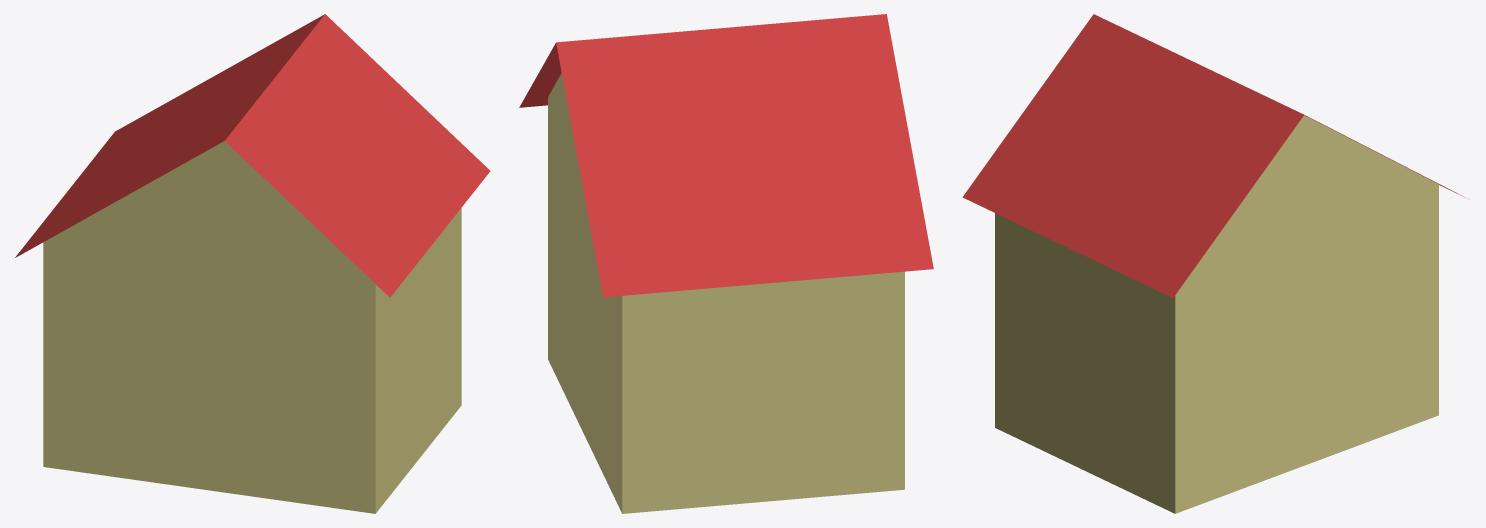
The picture shows the model from 3 angles, left to right: view 1: azimuth 30°, elevation 25°; view 2: azimuth 150°, elevation 25°; view 3: azimuth 270°, elevation 25°; orthographic projection. The views are drawn at different scales.
Size of the model in its own units: 16.31 by 16.53 by 13.04.
